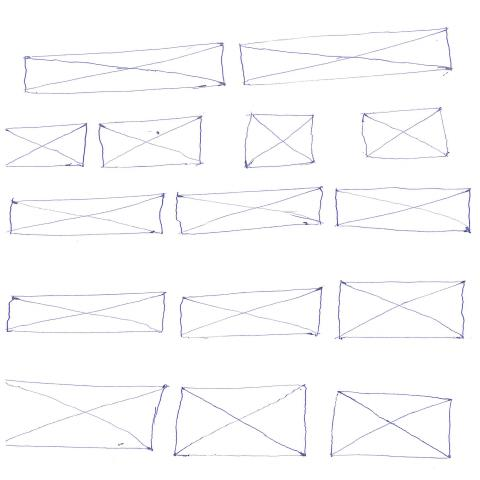Image: (239, 27, 455, 87), (24, 42, 227, 95), (172, 384, 309, 460), (328, 392, 453, 461), (337, 280, 469, 342), (180, 288, 326, 340), (175, 187, 325, 236), (5, 291, 168, 335), (7, 193, 165, 237), (333, 188, 474, 235), (97, 115, 203, 170), (363, 108, 452, 161), (243, 114, 318, 170)
